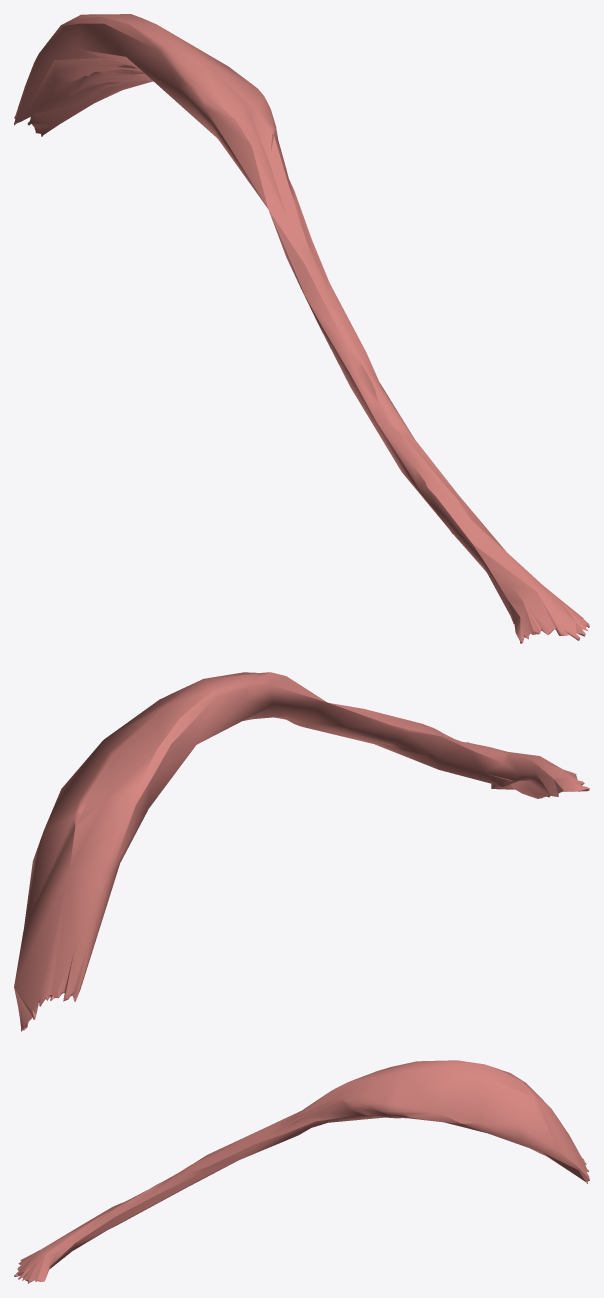
The model's file is fma51145_fj1407m.glb.
3 renders of one model, top to bottom at view 1: azimuth 30°, elevation 25°; view 2: azimuth 150°, elevation 25°; view 3: azimuth 270°, elevation 25°, orthographic. The views are drawn at different scales.
Parts seen in each view (by area): view 1: FMA51145_FJ1407M; view 2: FMA51145_FJ1407M; view 3: FMA51145_FJ1407M.
Part boxes in pixels (x1,y1,x2,y2): FMA51145_FJ1407M: [14, 14, 589, 643]; FMA51145_FJ1407M: [14, 672, 589, 1031]; FMA51145_FJ1407M: [14, 1060, 589, 1283].
Size of the model in its own units: 0.014 by 0.0459 by 0.1199.
